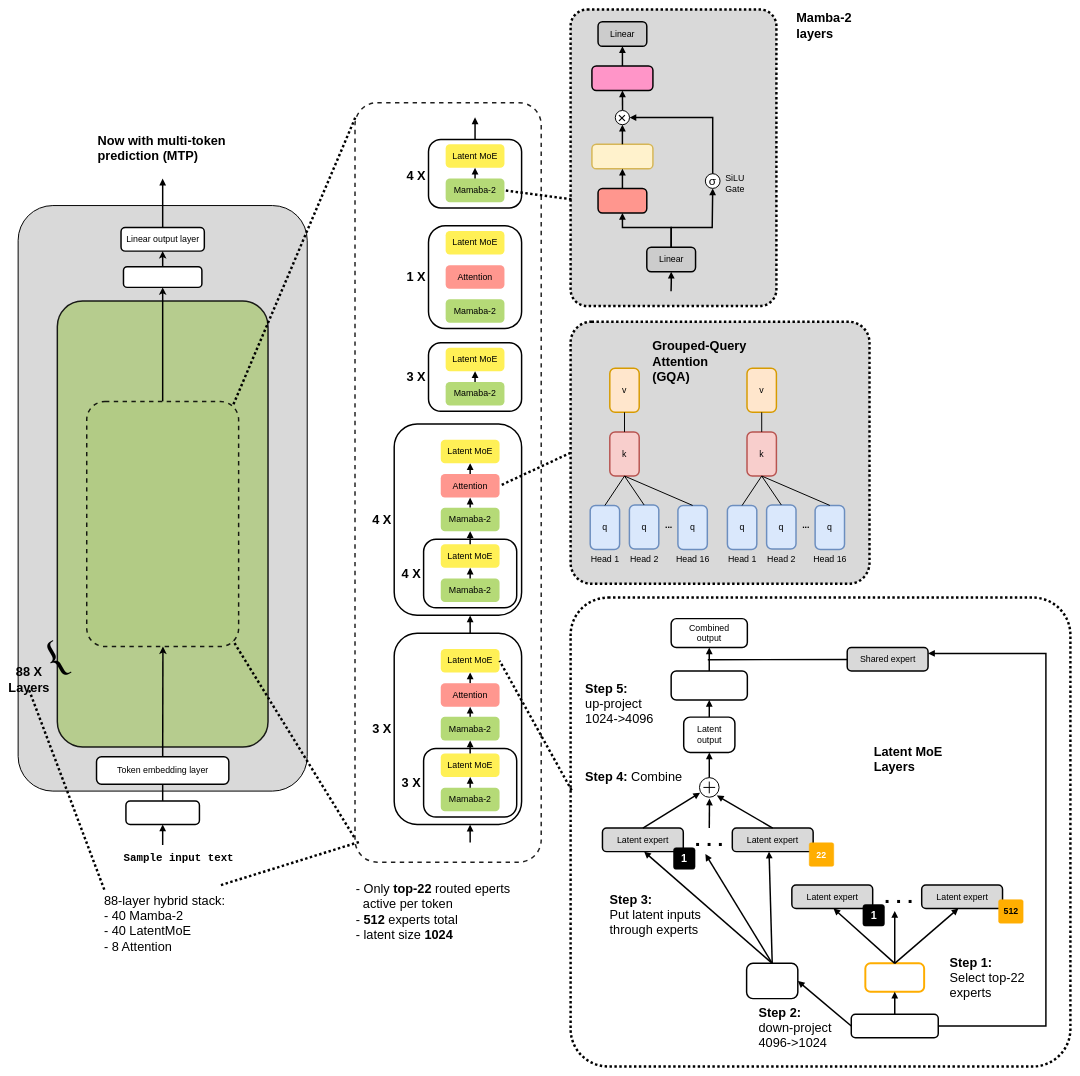
Image size: 1080x1076. Some labels were removed from this diagram. Each missing label, with the centre of its shape:
Conv1D: [622,200]
Final RMSNorm: [162,277]
Input: [894,1025]
Latent Input: [772,980]
RMSNorm: [622,78]
Routed output: [709,685]
Router: [894,977]
SSM state update: [622,156]
Tokenized text: [162,812]
